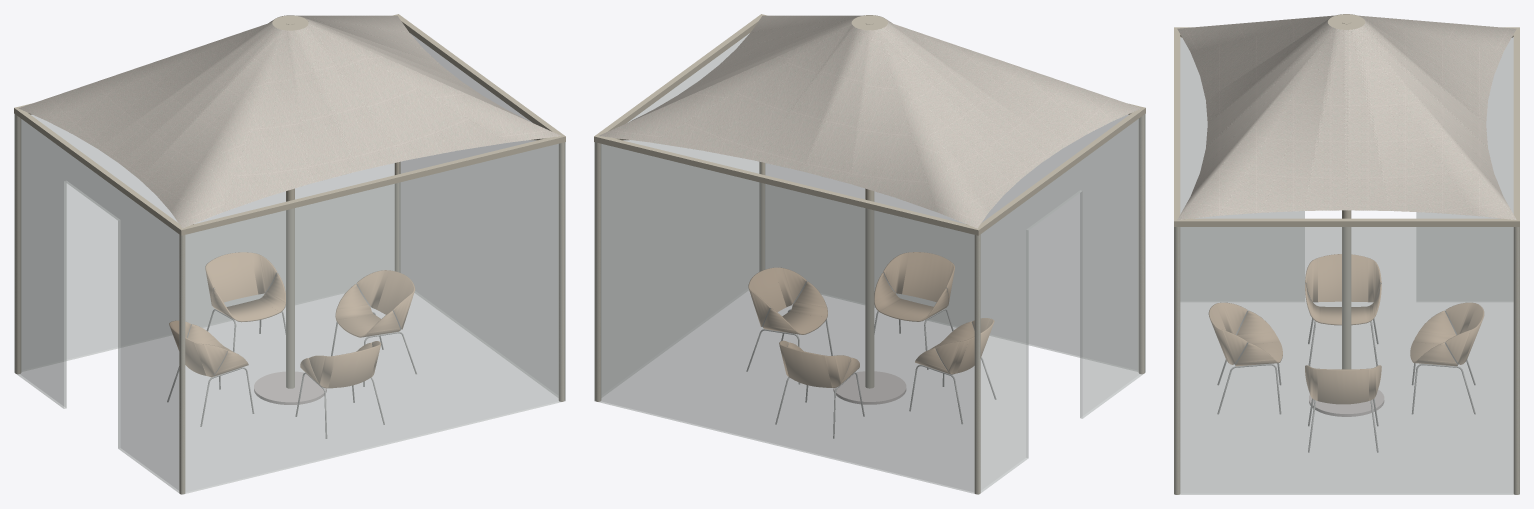
Rendered from UMBRELLA 6.glb.
3 renders of one model, left to right at view 1: azimuth 30°, elevation 25°; view 2: azimuth 150°, elevation 25°; view 3: azimuth 270°, elevation 25°, orthographic. The views are drawn at different scales.
Visible parts, largest first — view 1: TRANSPARENT SHEET, CANOPY, POLES, CHAIR BACKREST, CHAIR LEGS; view 2: TRANSPARENT SHEET, CANOPY, POLES, CHAIR BACKREST, CHAIR LEGS; view 3: TRANSPARENT SHEET, CANOPY, CHAIR BACKREST, POLES, CHAIR LEGS.
Part boxes in pixels (left/top/right/bottom): TRANSPARENT SHEET: left=14, top=33, right=565, bottom=494; CANOPY: left=18, top=15, right=560, bottom=228; POLES: left=14, top=14, right=565, bottom=494; CHAIR BACKREST: left=169, top=252, right=415, bottom=388; CHAIR LEGS: left=167, top=309, right=416, bottom=438; TRANSPARENT SHEET: left=594, top=33, right=1145, bottom=494; CANOPY: left=599, top=15, right=1141, bottom=228; POLES: left=594, top=14, right=1145, bottom=494; CHAIR BACKREST: left=748, top=252, right=994, bottom=387; CHAIR LEGS: left=746, top=309, right=996, bottom=438; TRANSPARENT SHEET: left=1174, top=37, right=1519, bottom=494; CANOPY: left=1177, top=14, right=1516, bottom=219; CHAIR BACKREST: left=1208, top=254, right=1484, bottom=404; POLES: left=1174, top=14, right=1519, bottom=494; CHAIR LEGS: left=1217, top=318, right=1475, bottom=452.
Size of the model in its own units: 3.71 by 3.38 by 2.79.
Materials: 9 (4 with a texture image).
